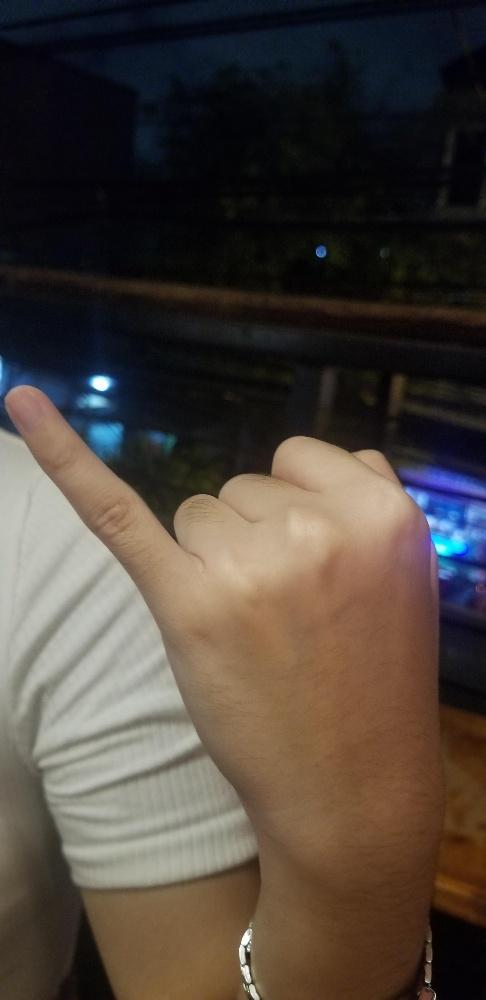j: (2, 369, 457, 887)
